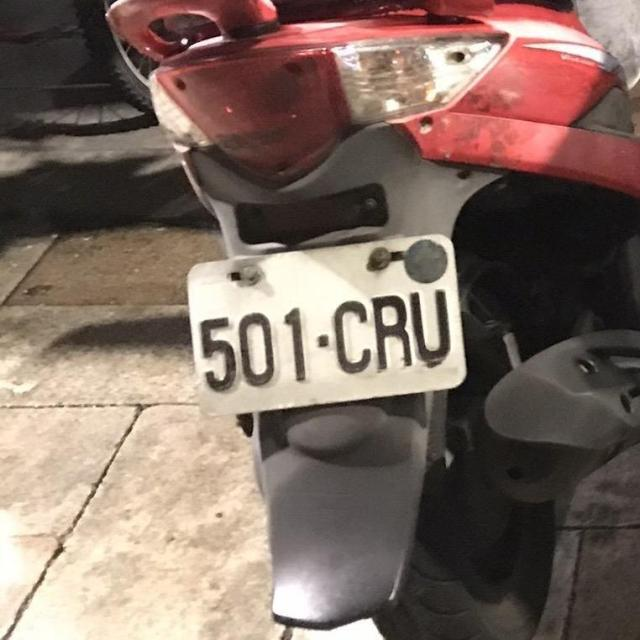W: (185, 233, 468, 420)
